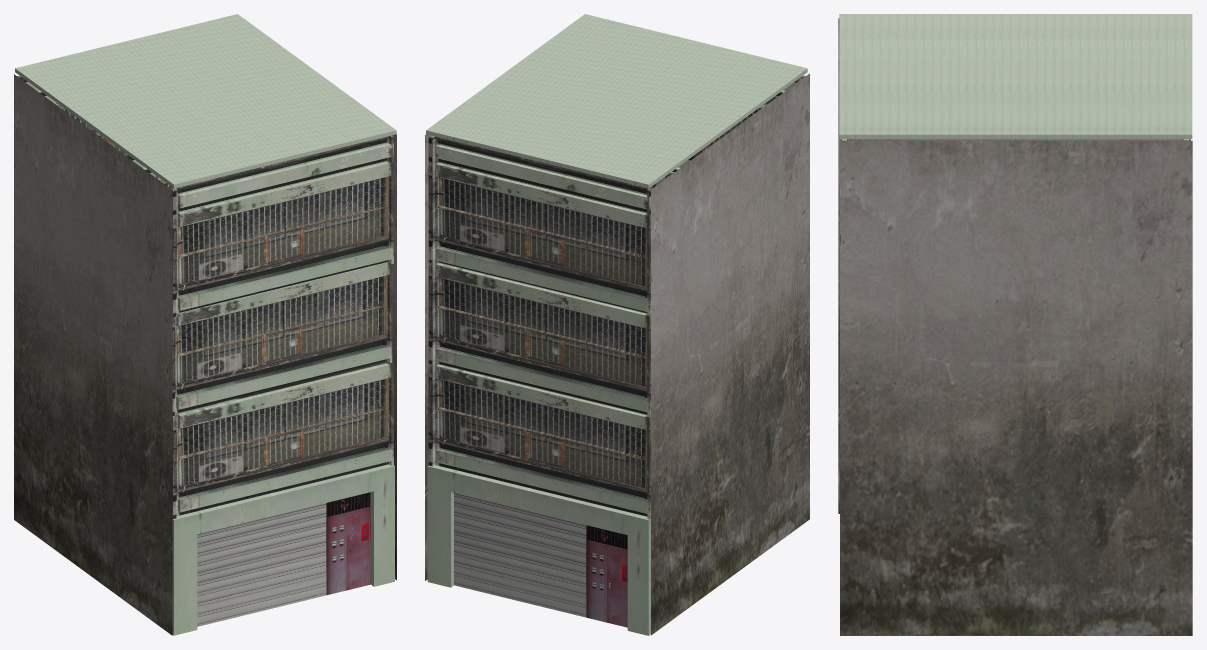
Rendered from 裝飾建築二.fbx.
3 renders of one model, left to right at view 1: azimuth 30°, elevation 25°; view 2: azimuth 150°, elevation 25°; view 3: azimuth 270°, elevation 25°, orthographic. The views are drawn at different scales.
Visible parts, largest first — view 1: Plane013, Plane015, Plane003, Plane006, Plane004, Plane014, Plane012; view 2: Plane013, Plane015, Plane008, Plane010, Plane009, Plane007, Plane012; view 3: Plane012, Plane015, Plane013.
Boxes of the visible parts, <box> form: Plane013: <box>14,74,172,635</box>; Plane015: <box>15,14,396,188</box>; Plane003: <box>171,135,393,317</box>; Plane006: <box>172,464,394,635</box>; Plane004: <box>172,362,393,518</box>; Plane014: <box>172,261,392,415</box>; Plane012: <box>240,134,396,580</box>; Plane013: <box>651,73,809,635</box>; Plane015: <box>426,14,807,188</box>; Plane008: <box>428,135,651,316</box>; Plane010: <box>427,465,650,635</box>; Plane009: <box>428,363,650,519</box>; Plane007: <box>428,261,650,417</box>; Plane012: <box>425,134,429,580</box>; Plane012: <box>840,140,1192,635</box>; Plane015: <box>839,14,1192,138</box>; Plane013: <box>838,18,1190,513</box>.
Bounding box in the file's own units: 611 × 1171 × 749.
14 materials, 12 textured.
